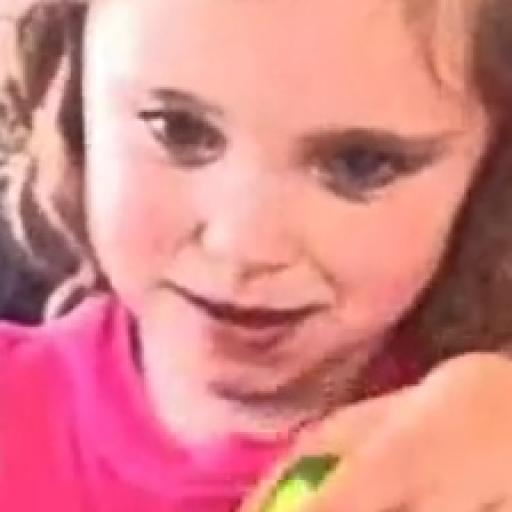Autism: (55, 0, 510, 469)
